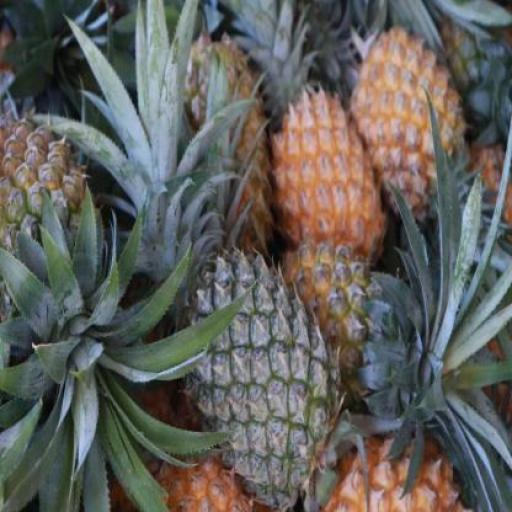------------------------------: (0, 114, 98, 342)
Pineapple - v8 v1: (354, 27, 466, 234), (269, 84, 383, 266)
